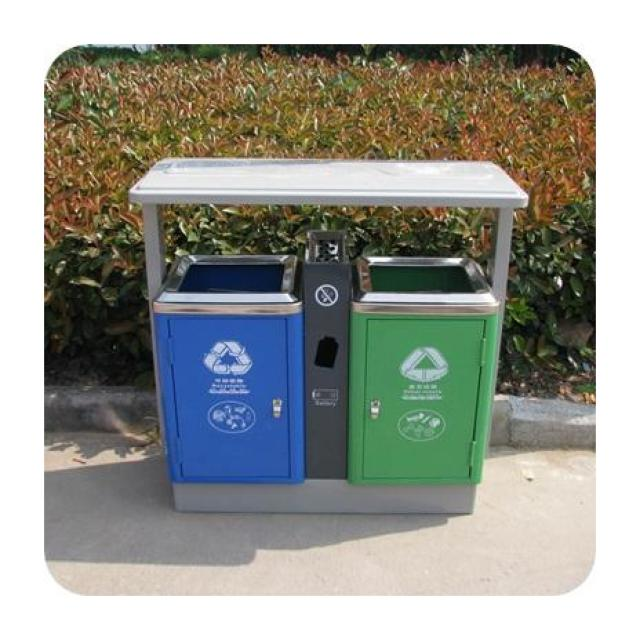garbage_bin: (127, 156, 527, 514)
